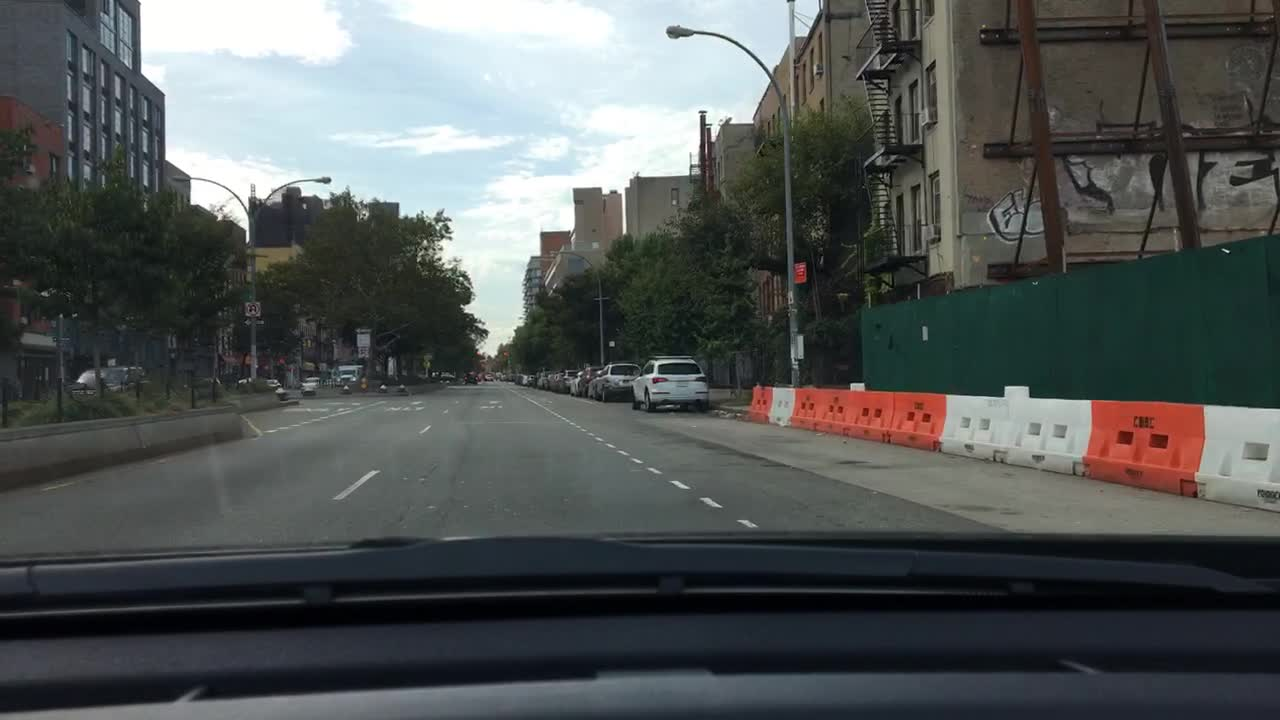car: (627, 353, 712, 415), (71, 368, 150, 401), (592, 359, 641, 400), (233, 374, 280, 393), (192, 374, 222, 401), (579, 364, 602, 396), (563, 369, 584, 396), (300, 374, 320, 395), (553, 368, 568, 395), (462, 371, 479, 388), (428, 368, 452, 380), (523, 369, 540, 385), (533, 371, 548, 388), (514, 371, 530, 386), (545, 371, 557, 390)
traffic sign: (239, 315, 266, 327), (793, 261, 806, 283), (241, 300, 261, 314), (354, 336, 369, 347), (356, 346, 368, 359), (354, 324, 369, 334)
truck: (332, 361, 363, 385)
